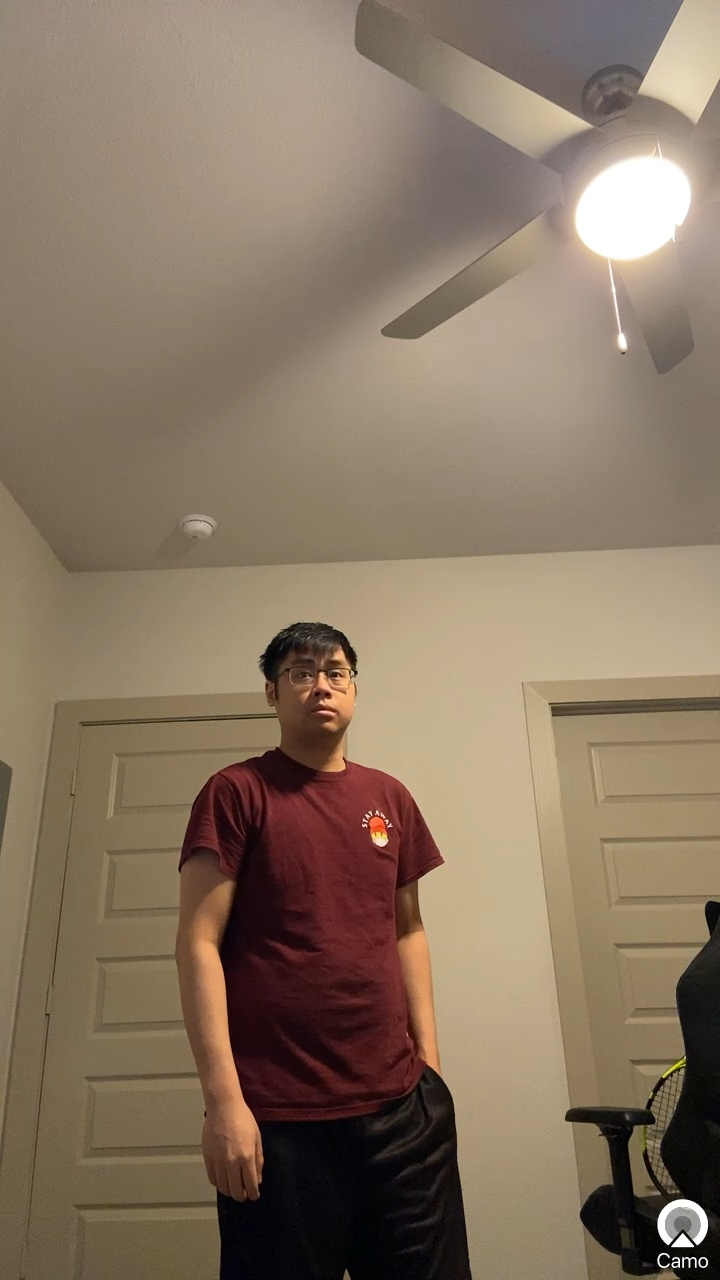Person: (160, 599, 497, 1280)
